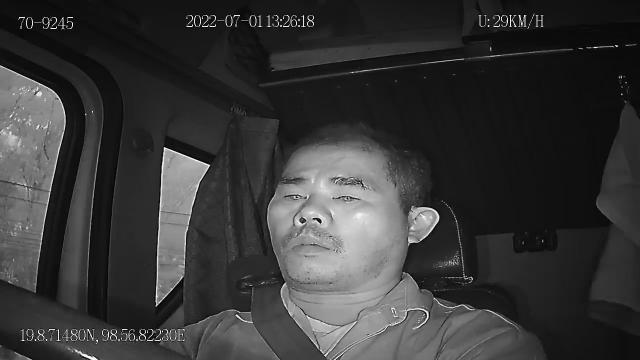SafeDriving: (325, 180, 370, 209), (275, 180, 312, 207)
Seatbelt: (236, 272, 336, 360)
